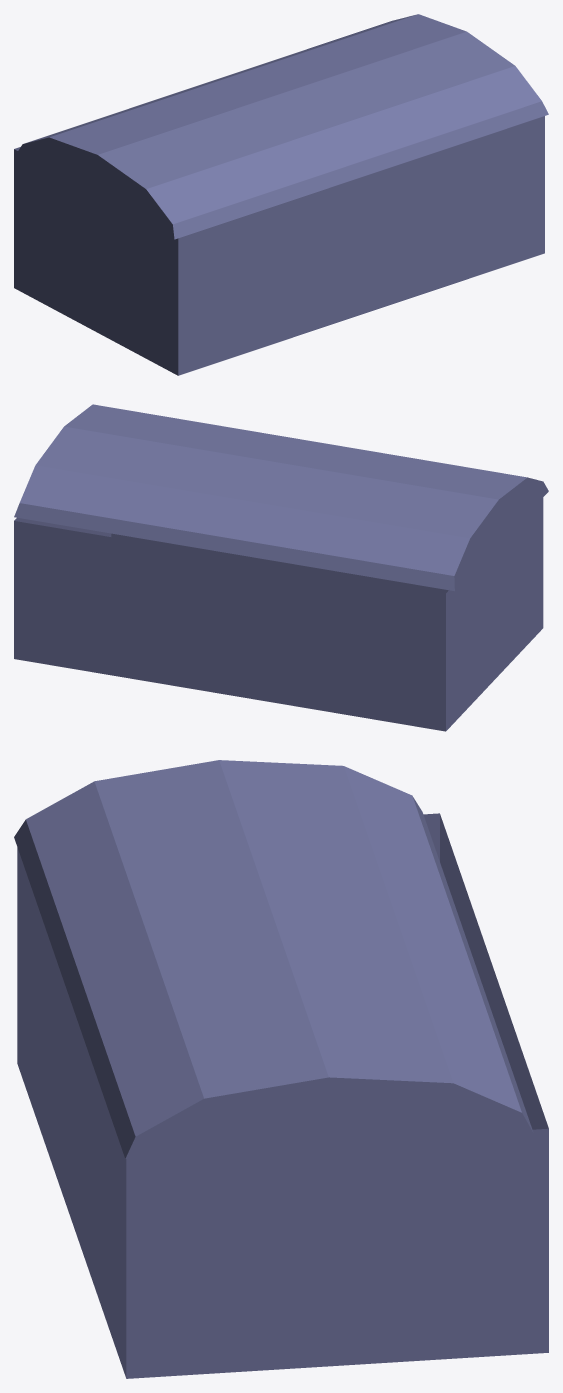
Rendered from Office2_box_7.fbx.
The picture shows the model from 3 angles, top to bottom: view 1: azimuth 30°, elevation 25°; view 2: azimuth 150°, elevation 25°; view 3: azimuth 270°, elevation 25°; orthographic projection. The views are drawn at different scales.
Visible parts, largest first — view 1: Office2_box_7; view 2: Office2_box_7; view 3: Office2_box_7.
Part boxes in pixels (x1,y1,x2,y2): Office2_box_7: (14,14,548,375); Office2_box_7: (14,404,548,731); Office2_box_7: (14,760,548,1378).
Size of the model in its own units: 25.84 by 10.05 by 16.83.
